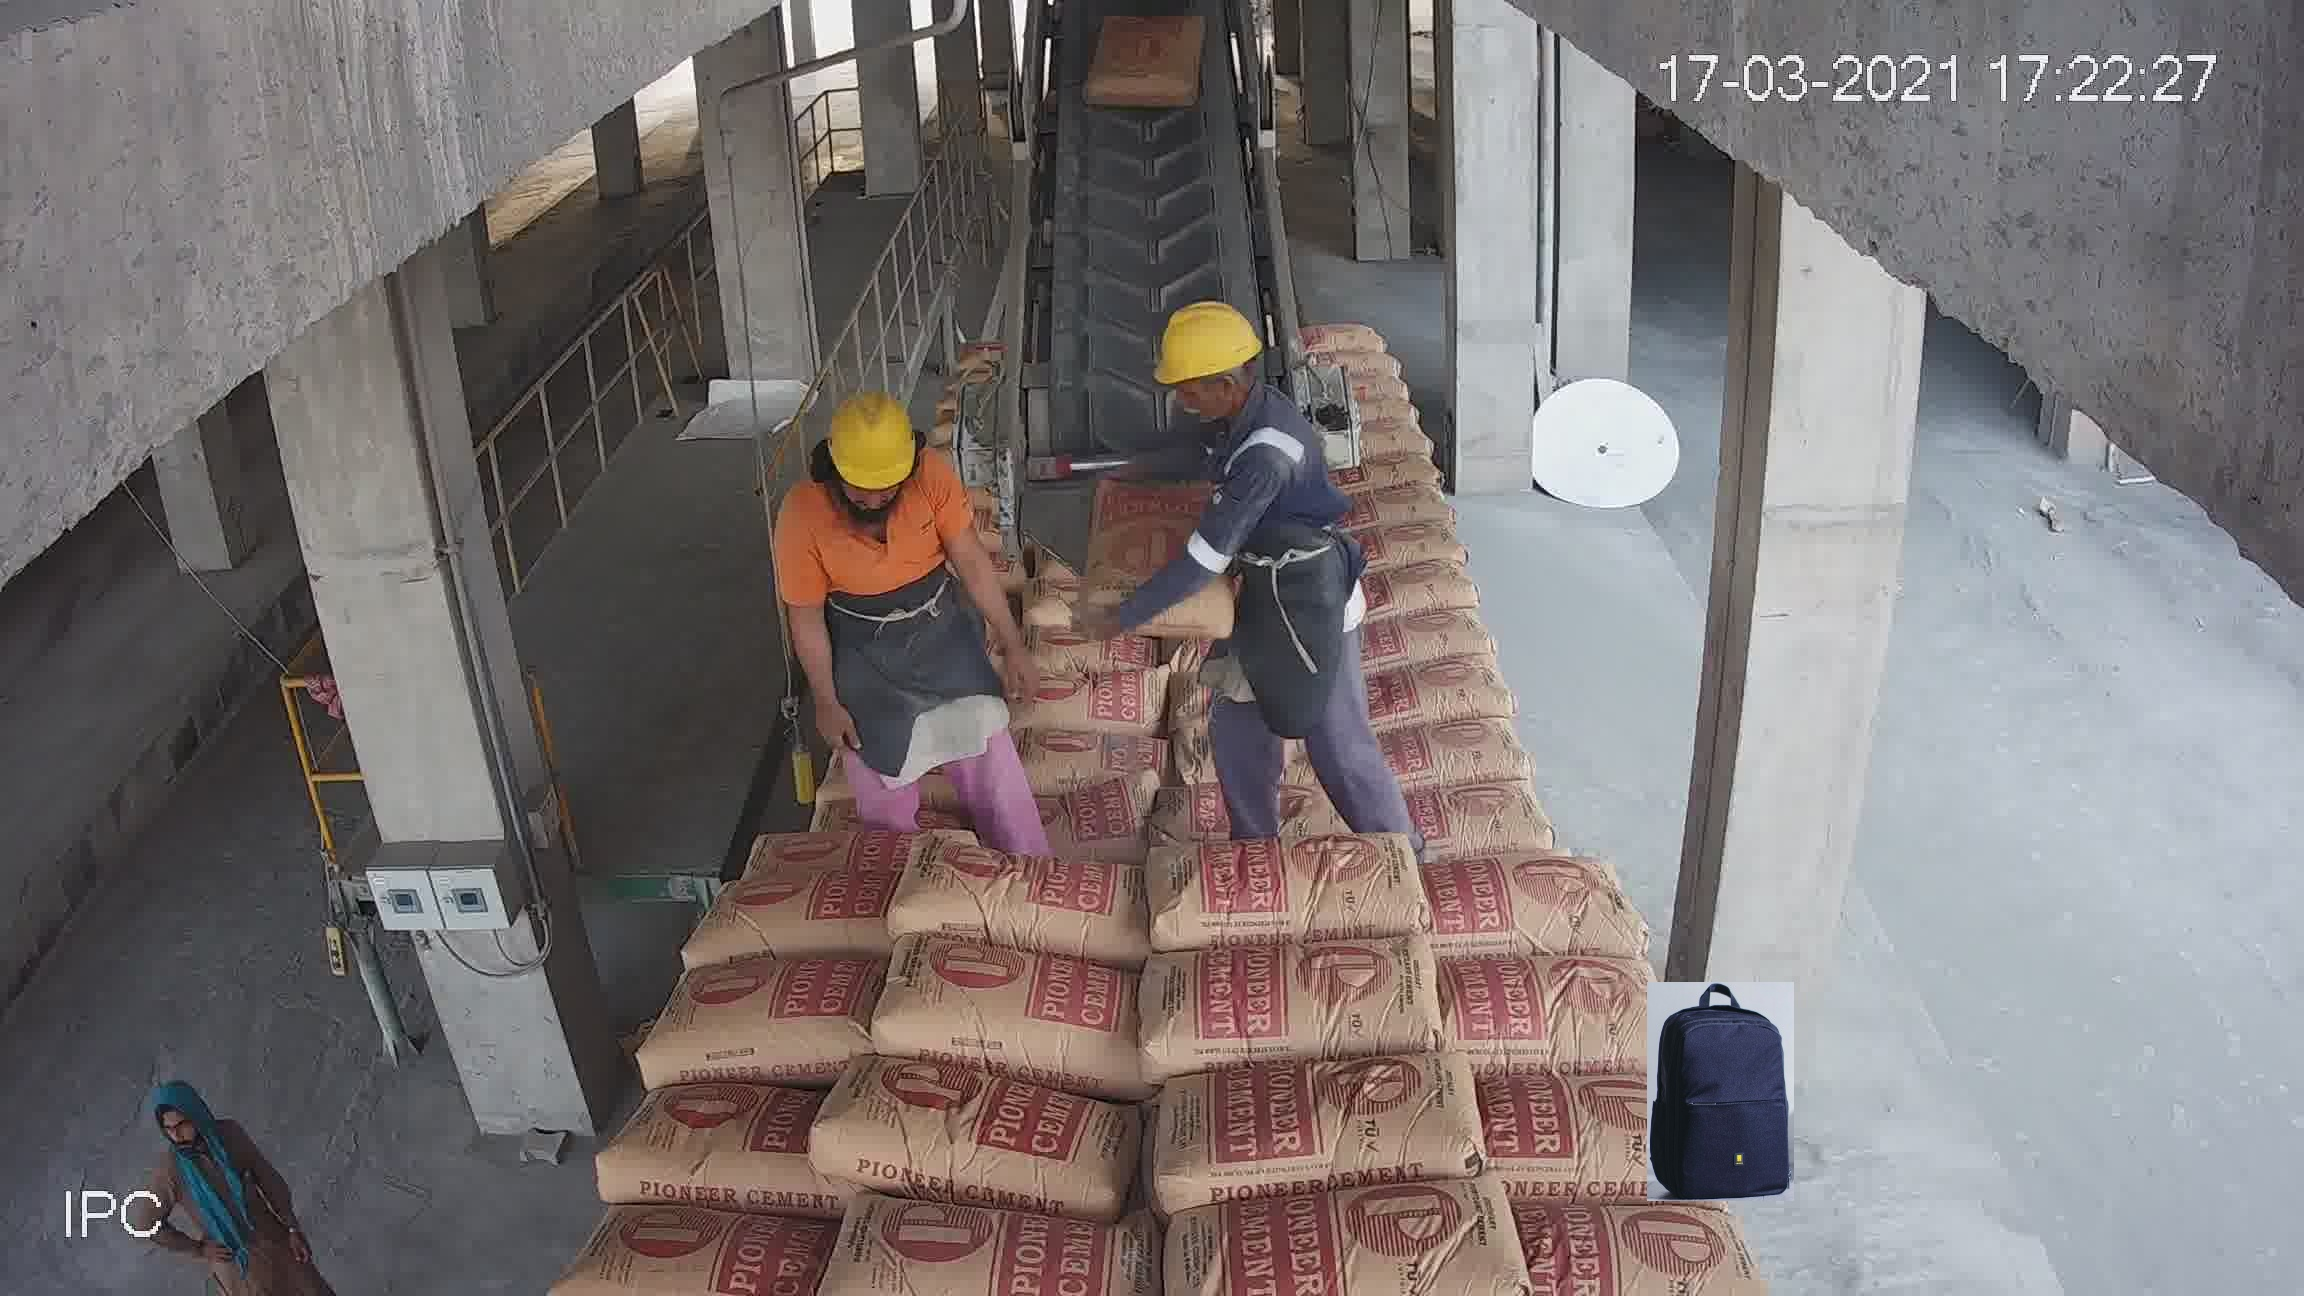bag: (1106, 399, 1215, 533), (1093, 63, 1212, 168)
bag_h: (1139, 1048, 1500, 1196), (1147, 1168, 1505, 1291), (807, 1067, 1158, 1185), (1415, 937, 1671, 1090), (869, 943, 1143, 1086), (1438, 1082, 1722, 1218), (1150, 818, 1416, 959), (563, 1076, 847, 1203), (1152, 717, 1404, 847), (1135, 951, 1442, 1055), (813, 1199, 1150, 1291), (1415, 831, 1628, 961), (636, 973, 875, 1082), (897, 853, 1130, 949), (1510, 1207, 1761, 1296), (543, 1192, 813, 1272), (673, 869, 885, 968), (1146, 657, 1362, 744), (709, 783, 902, 880), (926, 680, 1144, 764), (1431, 755, 1612, 851), (731, 704, 923, 791), (915, 760, 1125, 839), (1385, 684, 1563, 771), (1347, 595, 1491, 646), (1348, 559, 1476, 609), (1339, 519, 1465, 570), (1347, 483, 1461, 535), (855, 636, 975, 684), (1347, 415, 1438, 467), (881, 549, 972, 600), (861, 593, 983, 628), (1374, 646, 1527, 673), (1347, 465, 1438, 506), (1324, 392, 1427, 427)
belt: (1024, 27, 1291, 465)
